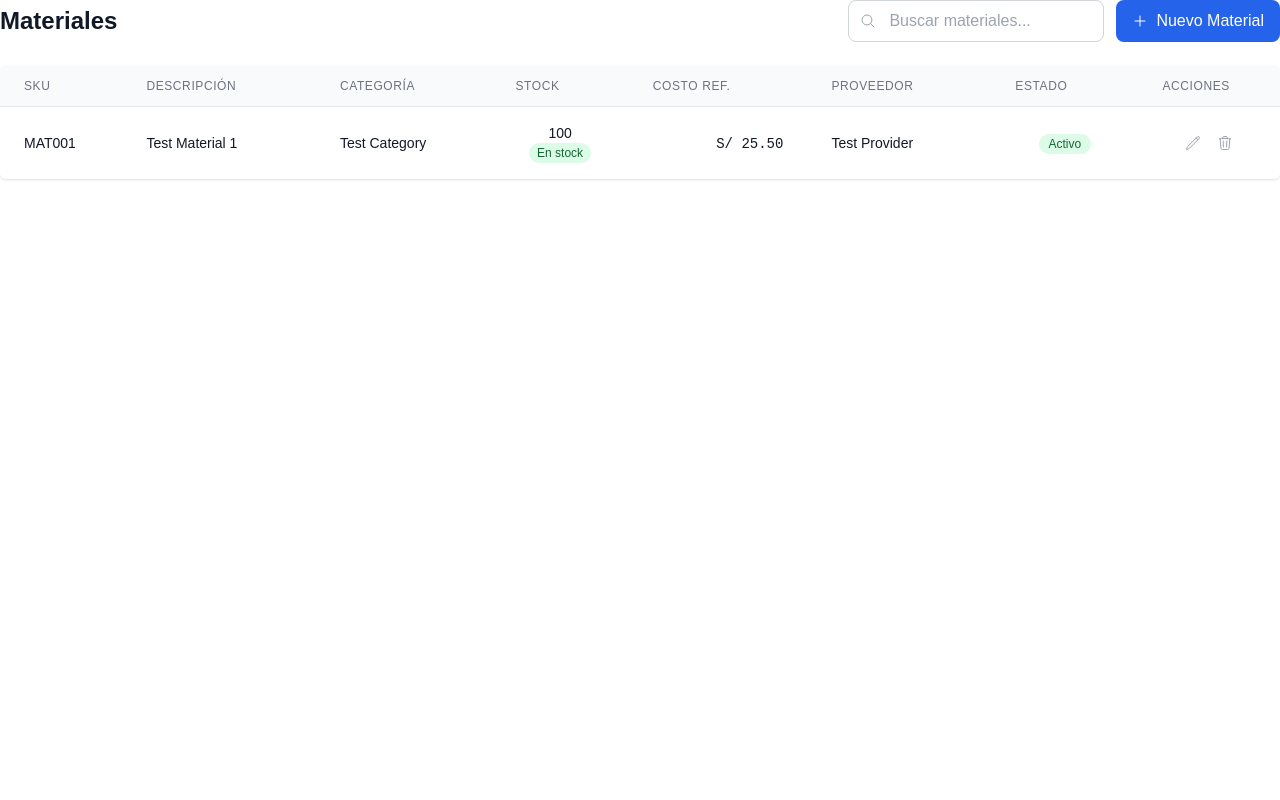
Scenario: Materials Components › MaterialsList › should handle edit material action
Click the button titled "Editar material": (1193, 143) [1181, 131, 1205, 155]
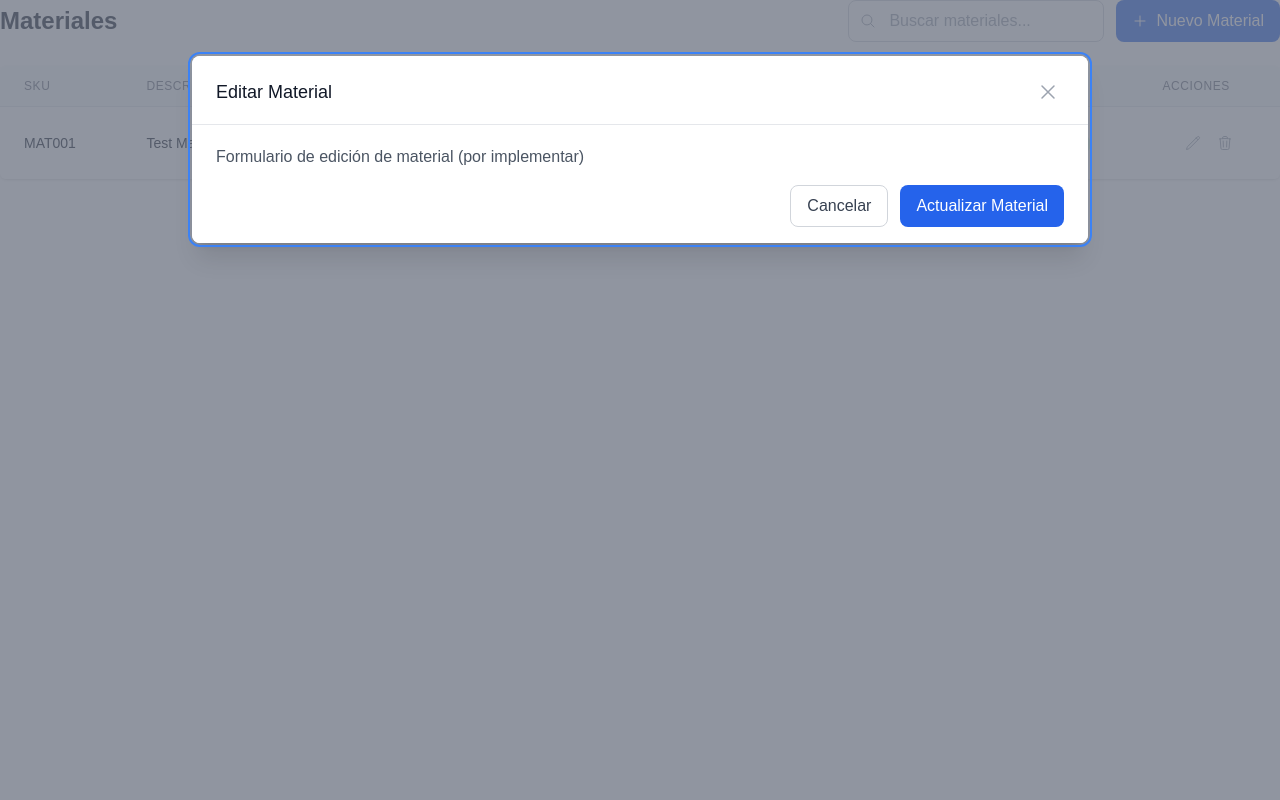
Now the heading "Editar Material" is shown, box [216, 78, 340, 106]
